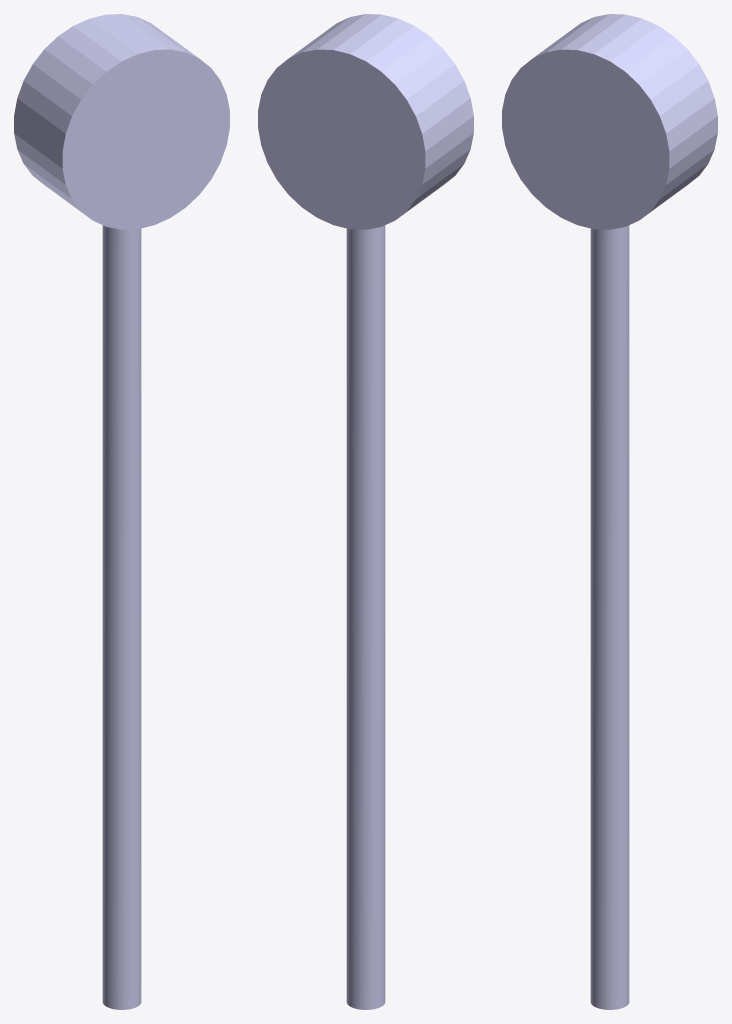
The model's file is revolute_L1.obj.
3 renders of one model, left to right at view 1: azimuth 30°, elevation 25°; view 2: azimuth 150°, elevation 25°; view 3: azimuth 330°, elevation 25°, orthographic.
Size of the model in its own units: 0.0498 by 0.2749 by 0.025.
